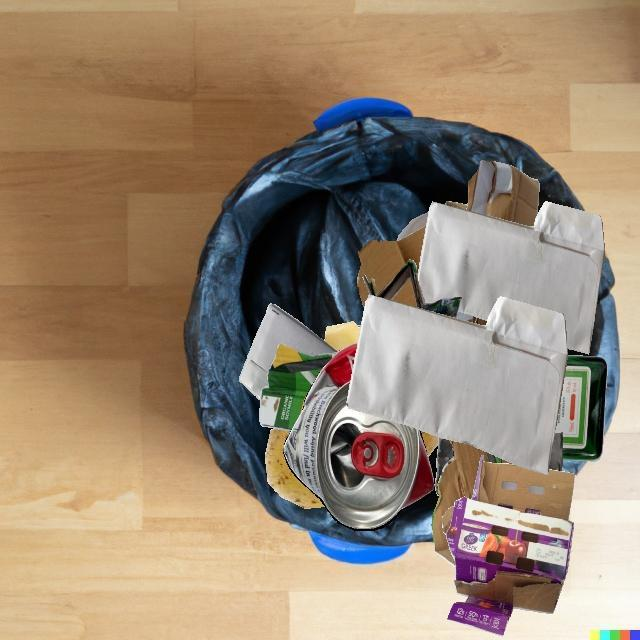biowaste: (296, 352, 428, 478)
cardboard: (442, 455, 575, 636), (431, 440, 512, 567), (259, 344, 337, 431), (362, 260, 462, 318), (357, 225, 426, 308), (466, 160, 539, 227), (442, 433, 555, 470), (436, 437, 453, 471), (548, 433, 563, 471), (435, 470, 442, 496), (357, 326, 361, 328)
glass: (555, 355, 607, 461)
metal: (283, 342, 435, 530)
paper: (347, 294, 568, 475), (417, 201, 605, 354), (240, 303, 338, 401)
plastic: (397, 212, 428, 240), (308, 352, 316, 355), (288, 430, 291, 433)
